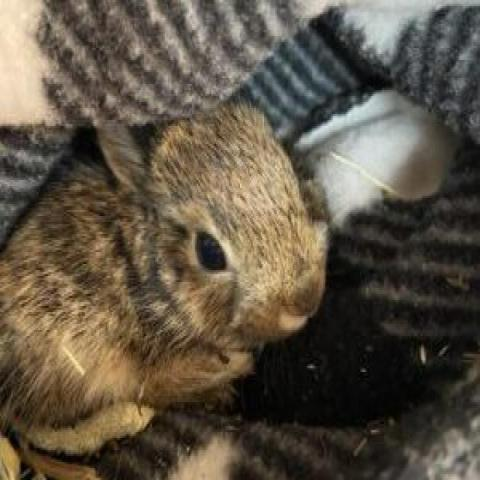small_animal: (2, 80, 335, 445)
